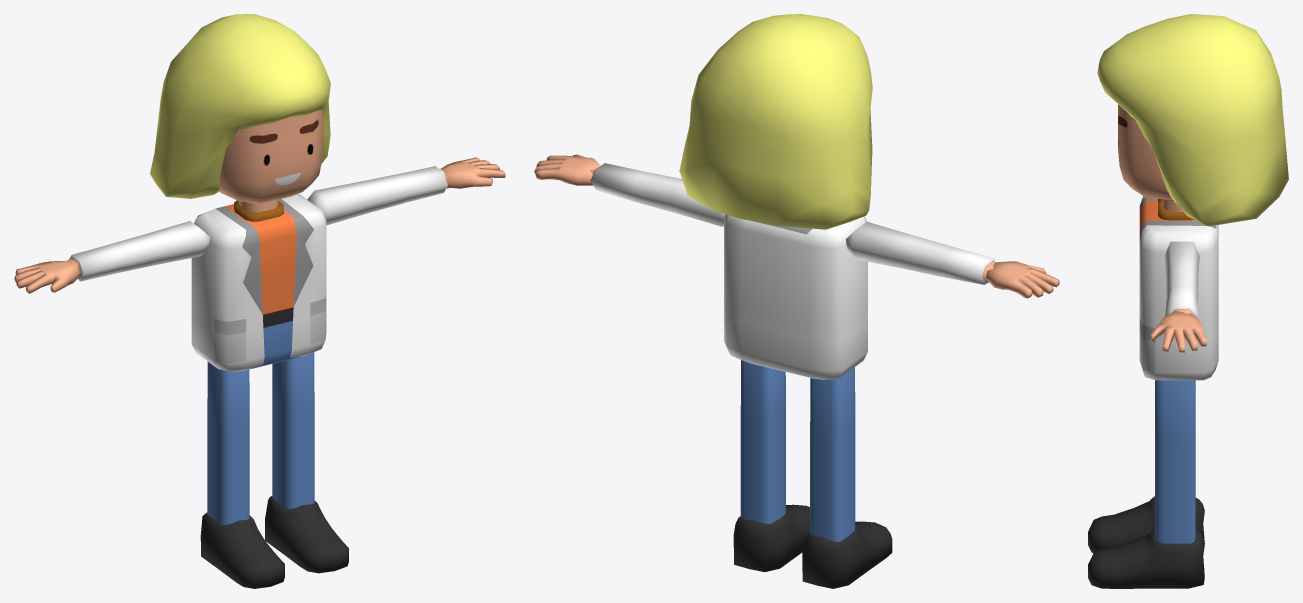
The model's file is NPC_White01_BlondeHair06.gltf.
The picture shows the model from 3 angles, left to right: view 1: azimuth 30°, elevation 25°; view 2: azimuth 150°, elevation 25°; view 3: azimuth 270°, elevation 25°; orthographic projection. The views are drawn at different scales.
Parts seen in each view (by area): view 1: NPC_Corpo_White1_BlondeHair.006; view 2: NPC_Corpo_White1_BlondeHair.006; view 3: NPC_Corpo_White1_BlondeHair.006.
Boxes of the visible parts, box(x1,y1,x2,y2) form: NPC_Corpo_White1_BlondeHair.006: box(14, 14, 505, 588); NPC_Corpo_White1_BlondeHair.006: box(534, 14, 1059, 588); NPC_Corpo_White1_BlondeHair.006: box(1088, 14, 1288, 588).
Bounding box in the file's own units: 2.31 × 2.37 × 0.7967.
1 material, 1 textured.
